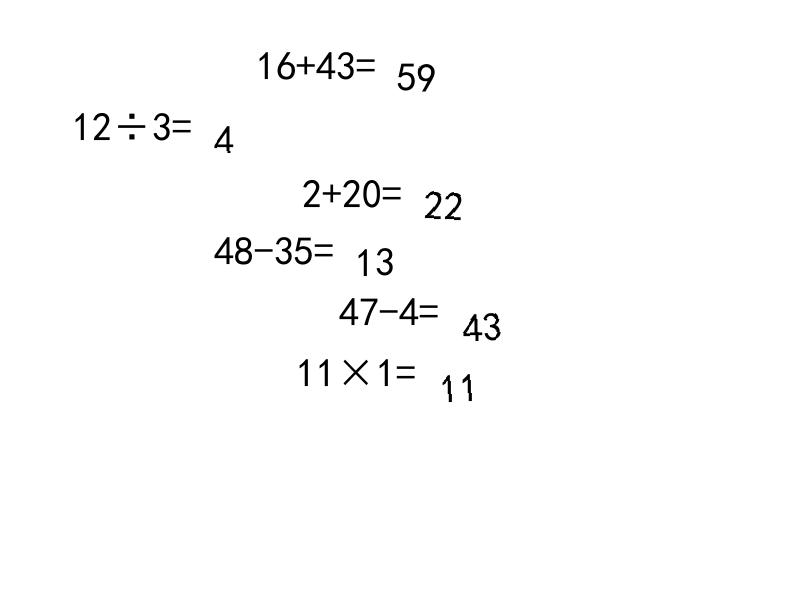+: (322, 173, 342, 203), (296, 45, 316, 74)
-: (254, 230, 274, 259), (379, 291, 399, 319)
0: (362, 173, 382, 203)
1: (256, 45, 276, 74), (72, 106, 92, 135), (344, 230, 364, 259), (296, 352, 316, 380), (316, 352, 336, 380), (376, 352, 396, 380), (426, 352, 446, 380), (446, 352, 466, 380)
2: (302, 173, 322, 203), (342, 173, 362, 203), (412, 173, 432, 203), (432, 173, 452, 203), (92, 106, 112, 135)
3: (336, 45, 356, 74), (152, 106, 172, 135), (274, 230, 294, 259), (364, 230, 384, 259), (469, 291, 489, 319)
4: (316, 45, 336, 74), (202, 106, 222, 135), (214, 230, 234, 259), (339, 291, 359, 319), (399, 291, 419, 319), (449, 291, 469, 319)
5: (386, 45, 406, 74), (294, 230, 314, 259)
6: (276, 45, 296, 74)
7: (359, 291, 379, 319)
8: (234, 230, 254, 259)
9: (406, 45, 426, 74)
=: (382, 173, 402, 203), (356, 45, 376, 74), (172, 106, 192, 135), (314, 230, 334, 259), (419, 291, 439, 319), (396, 352, 416, 380)
×: (336, 352, 376, 380)
÷: (112, 106, 152, 135)
